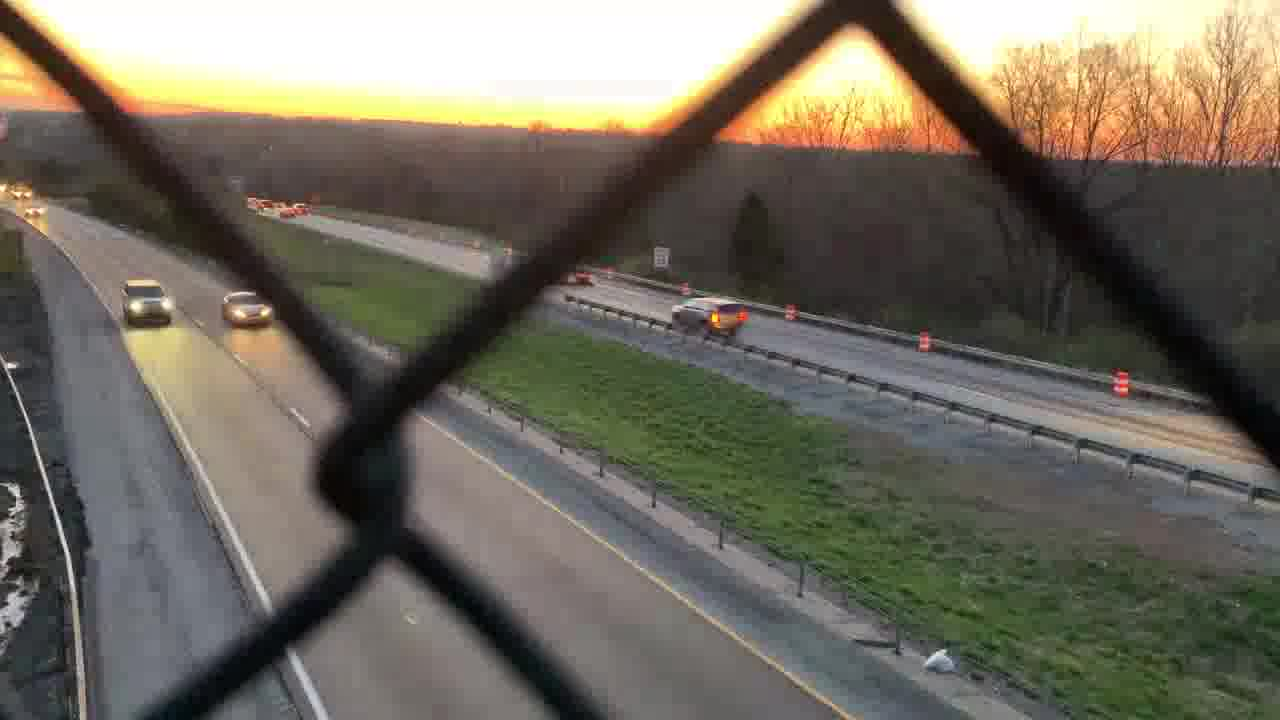largeCar: (672, 291, 748, 332), (119, 280, 177, 327)
smallCar: (215, 291, 279, 327)
